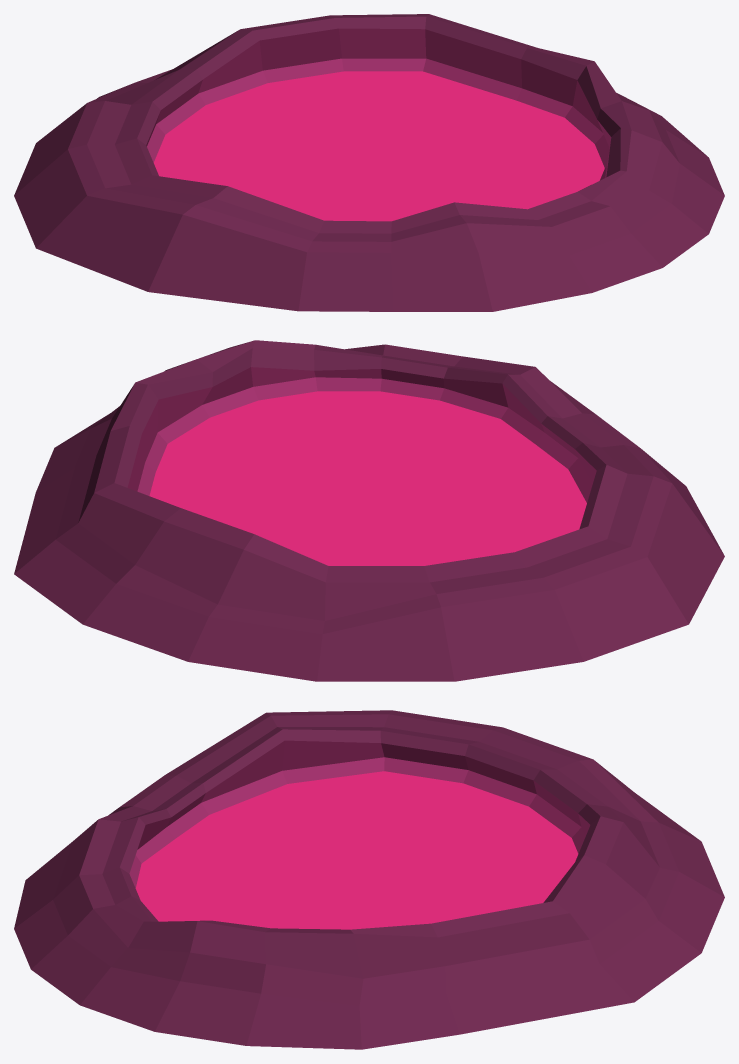
Rendered from LavaPuddle.fbx.
3 views of the same model, one above another, from view 1: azimuth 30°, elevation 25°; view 2: azimuth 150°, elevation 25°; view 3: azimuth 270°, elevation 25° (orthographic). The views are drawn at different scales.
Visible parts, largest first — view 1: Circle; view 2: Circle; view 3: Circle.
Part boxes in pixels (x1,y1,x2,y2): Circle: (14,14,724,311); Circle: (14,340,724,681); Circle: (14,710,724,1049).
Bounding box in the file's own units: 855 × 102 × 820.
